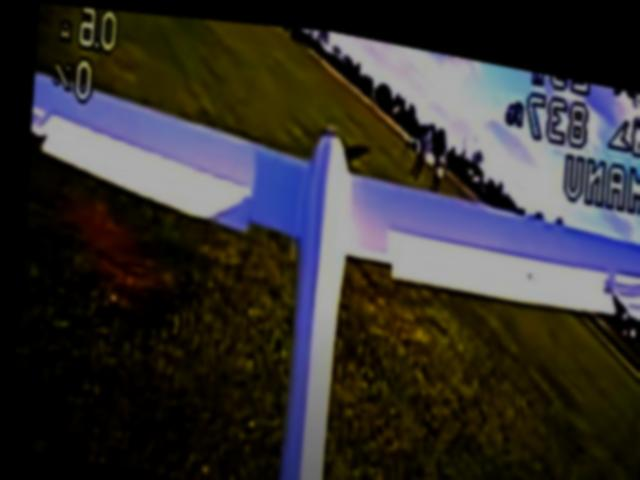iha: (2, 56, 640, 480)
